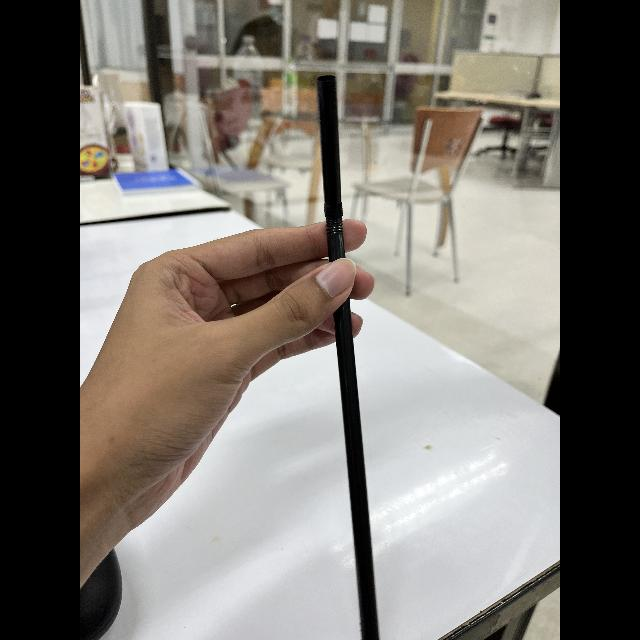straw: (314, 62, 401, 640)
